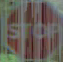Stop: (6, 5, 56, 56)
